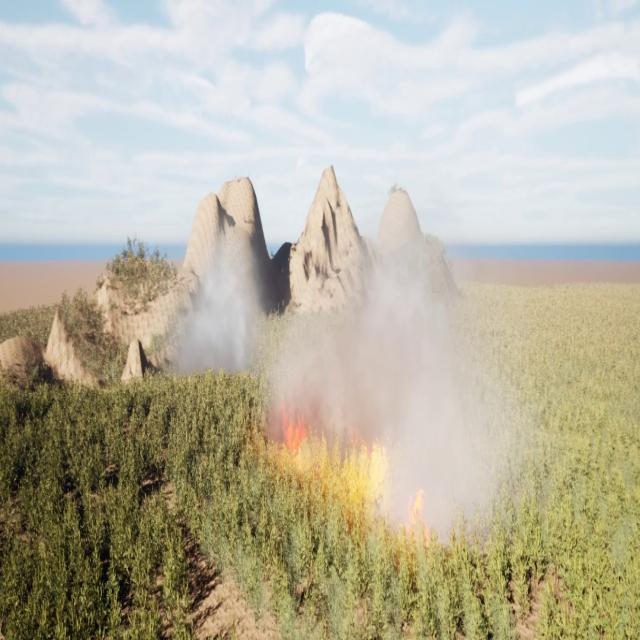fire: (344, 423, 386, 479), (276, 390, 308, 451), (406, 482, 429, 544)
smoke: (266, 237, 538, 558), (153, 233, 266, 377)
